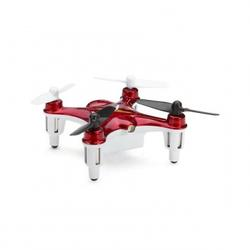drone: (28, 75, 220, 182)
